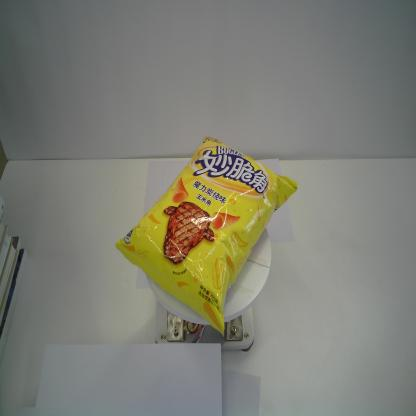Puffed Food: (113, 135, 299, 339)
